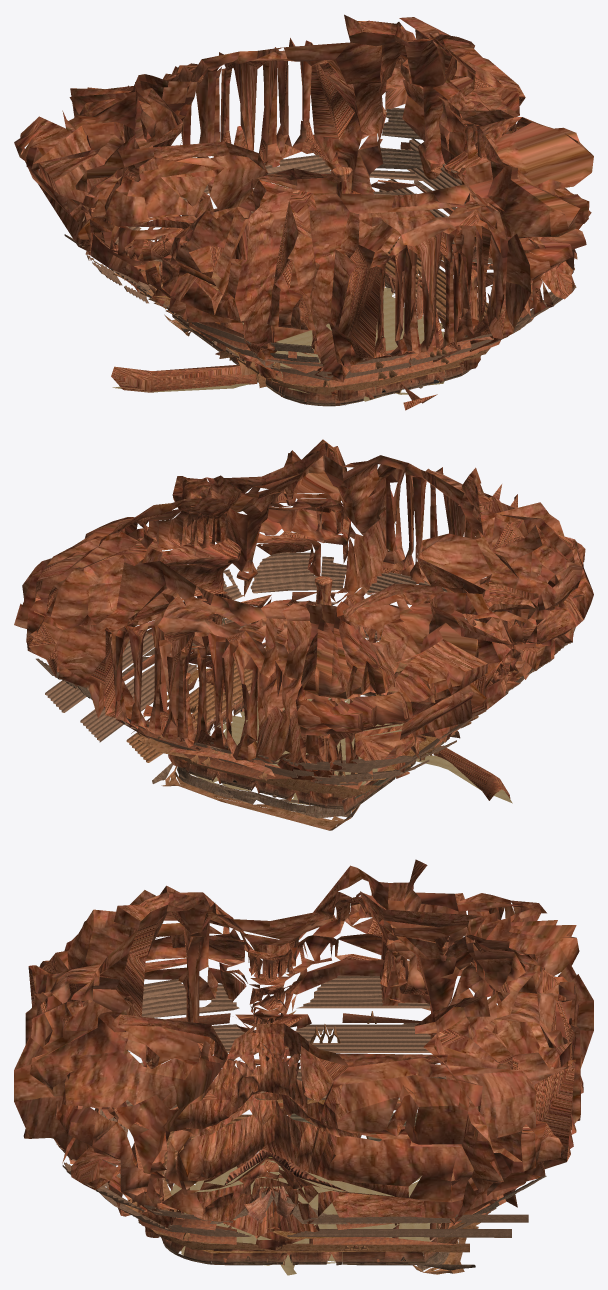
The model's file is arena.lod1.glb.
3 renders of one model, top to bottom at view 1: azimuth 30°, elevation 25°; view 2: azimuth 150°, elevation 25°; view 3: azimuth 270°, elevation 25°, orthographic. The views are drawn at different scales.
Visible parts, largest first — view 1: TunnelSide1.001_Material.068_0, Stairs.003_Material.047_0, RockSidingP3_Material.030_0, Floor.001_Material.204_0, Stairs.007_Material.061_0, Floor.002_Material.002_0, WallsArena.041_Material.006_0, WallsArena.029_Material.013_0, WallsArena.036_Material.004_0; view 2: TunnelSide1.001_Material.068_0, Stairs.003_Material.047_0, Floor.001_Material.204_0, RockSidingP3_Material.030_0, Floor_Material.077_0, Floor.002_Material.002_0, WallsArena.041_Material.006_0, WallsArena.029_Material.013_0, WallsArena.036_Material.004_0, WallsArena.037_Material.011_0; view 3: TunnelSide1.001_Material.068_0, Stairs.003_Material.047_0, Floor.001_Material.204_0, RockSidingP3_Material.030_0, WallsArena.041_Material.006_0, Floor.002_Material.002_0, Floor_Material.077_0, FrontEntrance.60_Material.023_0, FrontEntrance.79_Material.020_0, Stairs.001_Material.050_0, WallsArena.036_Material.004_0, WallsArena.029_Material.013_0.
Boxes of the visible parts, left/top/right/bottom form: TunnelSide1.001_Material.068_0: left=14, top=14, right=593, bottom=410; Stairs.003_Material.047_0: left=64, top=138, right=576, bottom=380; RockSidingP3_Material.030_0: left=115, top=142, right=533, bottom=399; Floor.001_Material.204_0: left=113, top=238, right=520, bottom=395; Stairs.007_Material.061_0: left=270, top=108, right=422, bottom=362; Floor.002_Material.002_0: left=112, top=287, right=445, bottom=405; WallsArena.041_Material.006_0: left=182, top=271, right=470, bottom=406; WallsArena.029_Material.013_0: left=181, top=166, right=480, bottom=400; WallsArena.036_Material.004_0: left=358, top=294, right=445, bottom=401; TunnelSide1.001_Material.068_0: left=14, top=439, right=593, bottom=800; Stairs.003_Material.047_0: left=45, top=552, right=575, bottom=785; Floor.001_Material.204_0: left=126, top=647, right=485, bottom=830; RockSidingP3_Material.030_0: left=73, top=592, right=539, bottom=801; Floor_Material.077_0: left=143, top=642, right=358, bottom=820; Floor.002_Material.002_0: left=190, top=698, right=512, bottom=805; WallsArena.041_Material.006_0: left=178, top=685, right=444, bottom=808; WallsArena.029_Material.013_0: left=168, top=576, right=334, bottom=803; WallsArena.036_Material.004_0: left=206, top=692, right=388, bottom=803; WallsArena.037_Material.011_0: left=342, top=760, right=415, bottom=815; TunnelSide1.001_Material.068_0: left=14, top=859, right=593, bottom=1250; Stairs.003_Material.047_0: left=56, top=975, right=528, bottom=1237; Floor.001_Material.204_0: left=96, top=1011, right=480, bottom=1274; RockSidingP3_Material.030_0: left=69, top=1013, right=506, bottom=1244; WallsArena.041_Material.006_0: left=161, top=1156, right=443, bottom=1265; Floor.002_Material.002_0: left=170, top=1150, right=437, bottom=1275; Floor_Material.077_0: left=210, top=1191, right=475, bottom=1271; FrontEntrance.60_Material.023_0: left=224, top=1149, right=349, bottom=1192; FrontEntrance.79_Material.020_0: left=244, top=1185, right=295, bottom=1223; Stairs.001_Material.050_0: left=202, top=1010, right=400, bottom=1253; WallsArena.036_Material.004_0: left=162, top=1175, right=441, bottom=1265; WallsArena.029_Material.013_0: left=142, top=1061, right=458, bottom=1262.
Size of the model in its own units: 149 by 77.33 by 145.
Materials: 40 (38 with a texture image).
